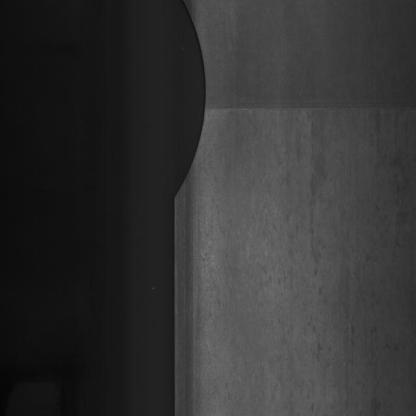crescent_gap: (150, 0, 213, 210)
welding_line: (202, 92, 416, 123)
